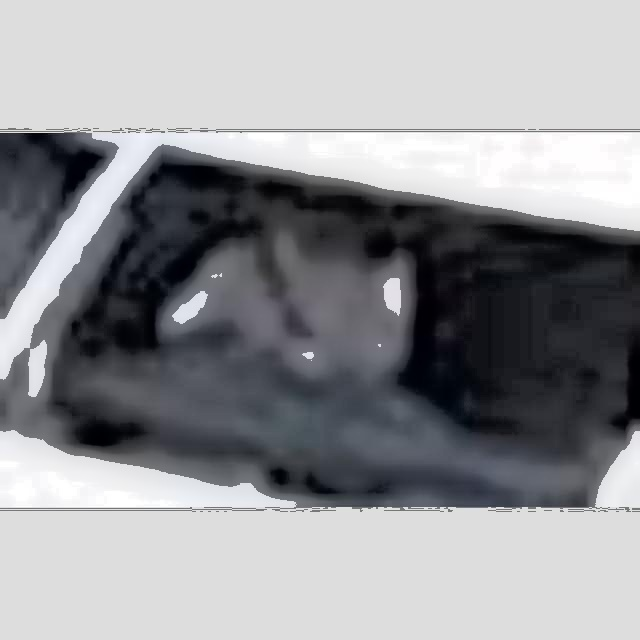pakai: (187, 192, 433, 419)
